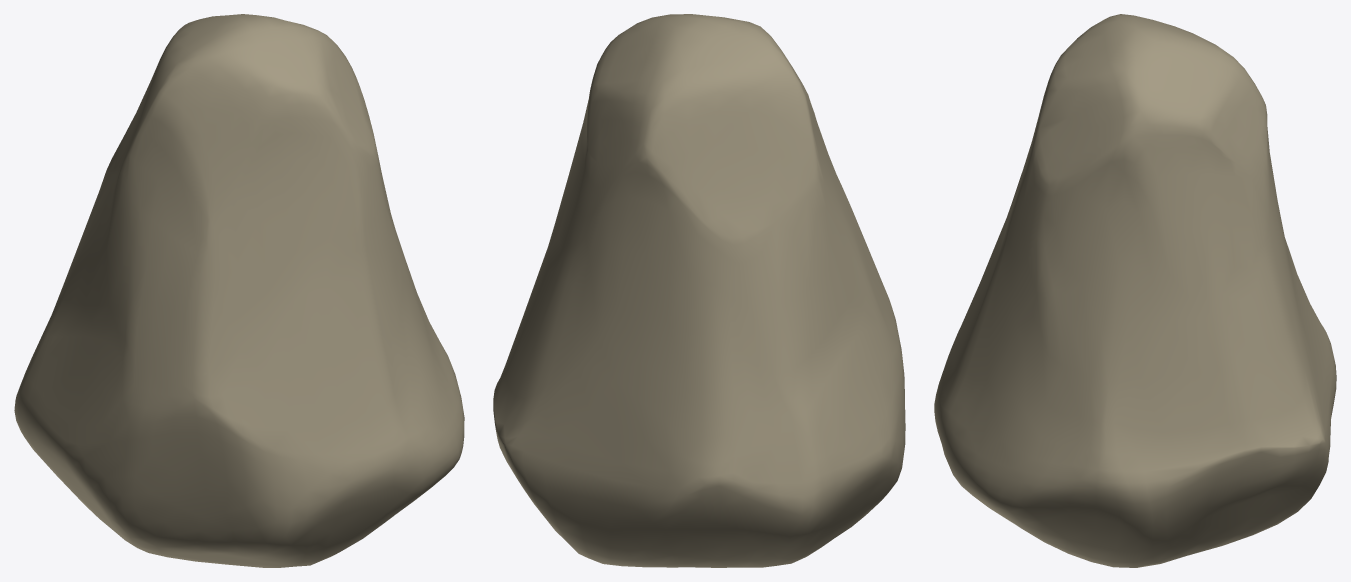
Rendered from rock-b.glb.
The picture shows the model from 3 angles, left to right: view 1: azimuth 30°, elevation 25°; view 2: azimuth 150°, elevation 25°; view 3: azimuth 270°, elevation 25°; orthographic projection. The views are drawn at different scales.
Parts seen in each view (by area): view 1: Environment_Rock_2; view 2: Environment_Rock_2; view 3: Environment_Rock_2.
Part boxes in pixels (x1,y1,x2,y2): Environment_Rock_2: (14,14,464,567); Environment_Rock_2: (493,14,905,567); Environment_Rock_2: (934,14,1336,567).
Size of the model in its own units: 3.73 by 5 by 3.61.
Materials: 1 (1 with a texture image).
